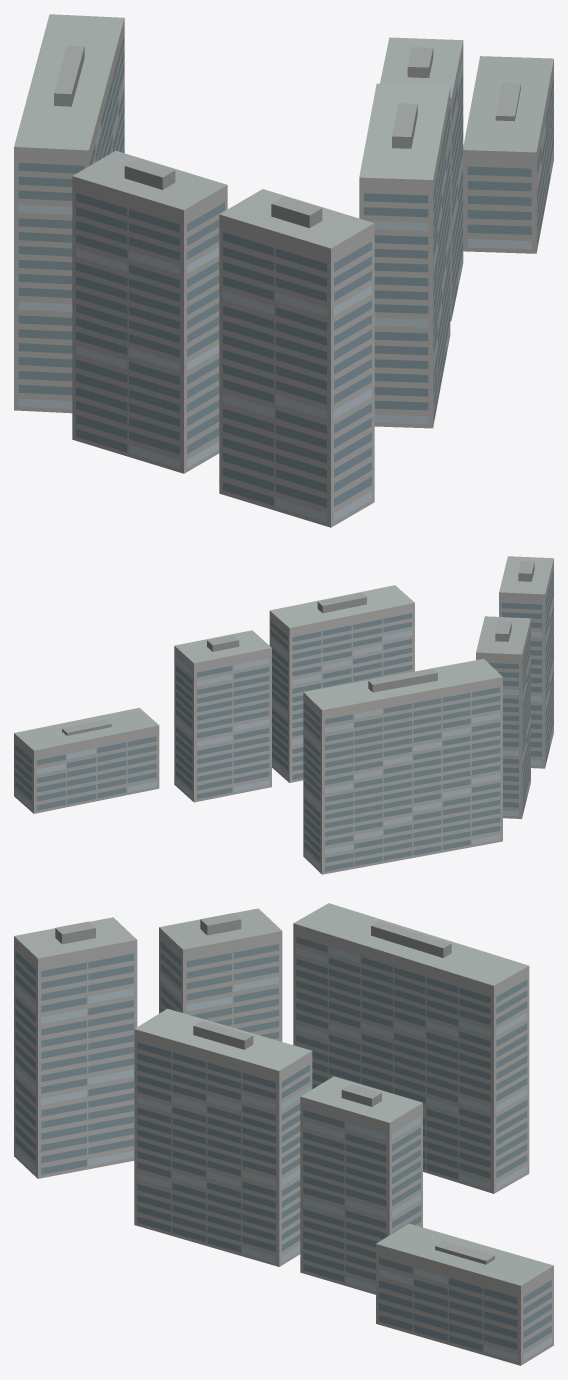
The model's file is apt-a13204203.glb.
3 renders of one model, top to bottom at view 1: azimuth 30°, elevation 25°; view 2: azimuth 150°, elevation 25°; view 3: azimuth 270°, elevation 25°, orthographic. The views are drawn at different scales.
Visible parts, largest first — view 1: apt-a13204203; view 2: apt-a13204203; view 3: apt-a13204203.
Boxes of the visible parts, x1,y1,x2,y2 form: apt-a13204203: (14,14,553,527); apt-a13204203: (14,556,553,874); apt-a13204203: (14,903,553,1365).
Bounding box in the file's own units: 130 × 55 × 117.
